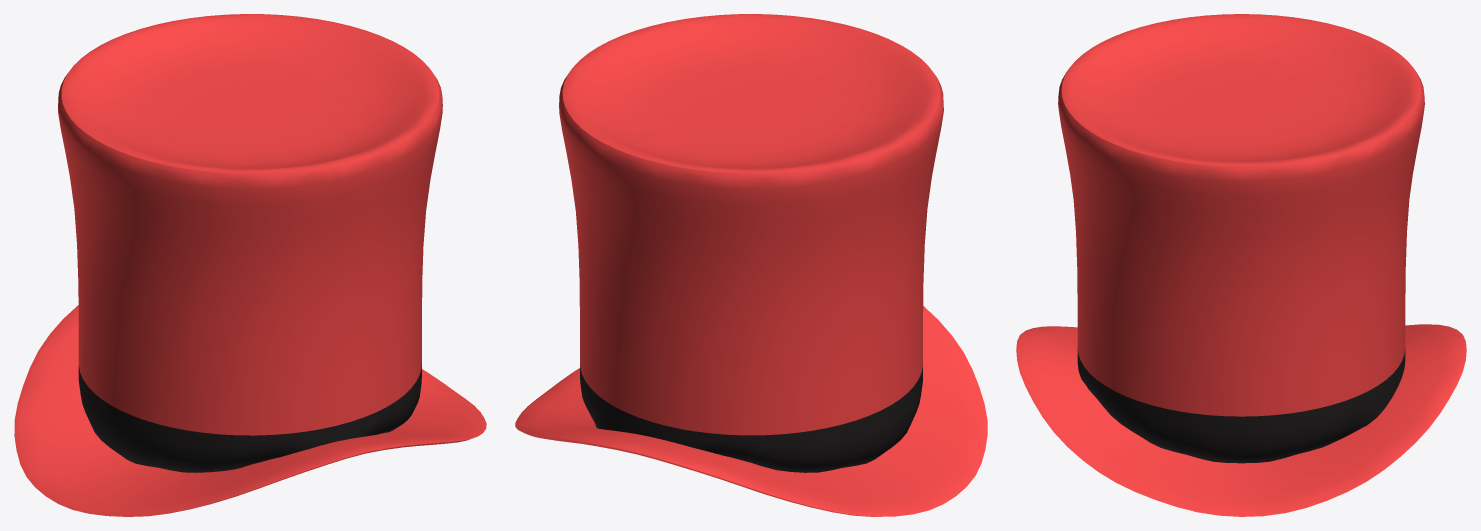
The model's file is Sec2ARMissionPortalItemHat.glb.
The picture shows the model from 3 angles, left to right: view 1: azimuth 30°, elevation 25°; view 2: azimuth 150°, elevation 25°; view 3: azimuth 270°, elevation 25°; orthographic projection. The views are drawn at different scales.
Parts seen in each view (by area): view 1: tophat; view 2: tophat; view 3: tophat.
Part boxes in pixels (x1,y1,x2,y2): tophat: [14, 14, 486, 516]; tophat: [515, 14, 987, 516]; tophat: [1016, 14, 1466, 516].
Bounding box in the file's own units: 0.0278 × 0.0232 × 0.0278.
